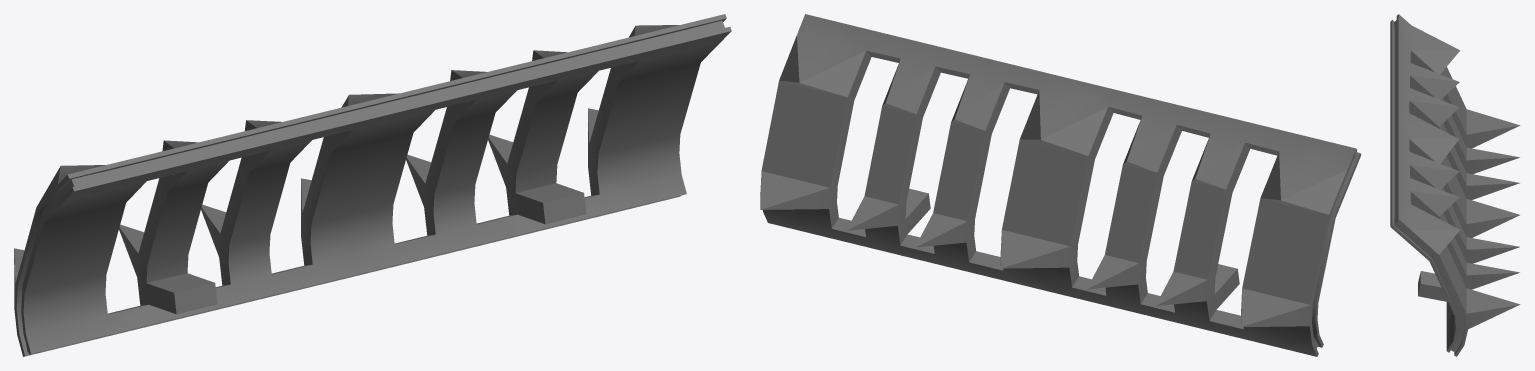
The model's file is pitbar.fbx.
The picture shows the model from 3 angles, left to right: view 1: azimuth 30°, elevation 25°; view 2: azimuth 150°, elevation 25°; view 3: azimuth 270°, elevation 25°; orthographic projection. The views are drawn at different scales.
Parts seen in each view (by area): view 1: Cube.005; view 2: Cube.005; view 3: Cube.005.
Boxes of the visible parts, x1,y1,x2,y2 form: Cube.005: [14, 14, 731, 356]; Cube.005: [760, 14, 1361, 356]; Cube.005: [1390, 14, 1520, 356].
Size of the model in its own units: 233 by 73.05 by 62.4.
1 material, 1 textured.
